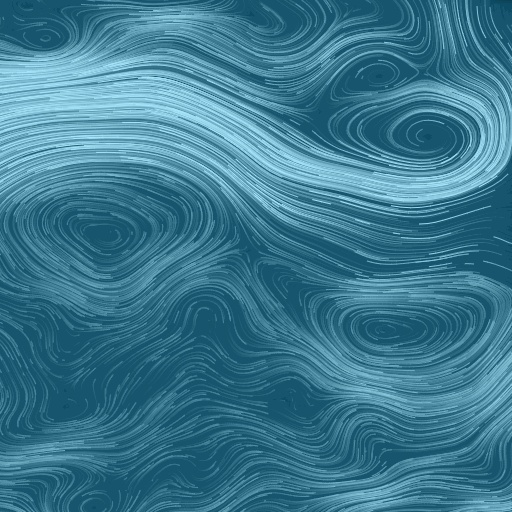eddy: (307, 287, 467, 374), (38, 194, 172, 277), (385, 101, 478, 165), (348, 54, 412, 94), (18, 22, 73, 55)
